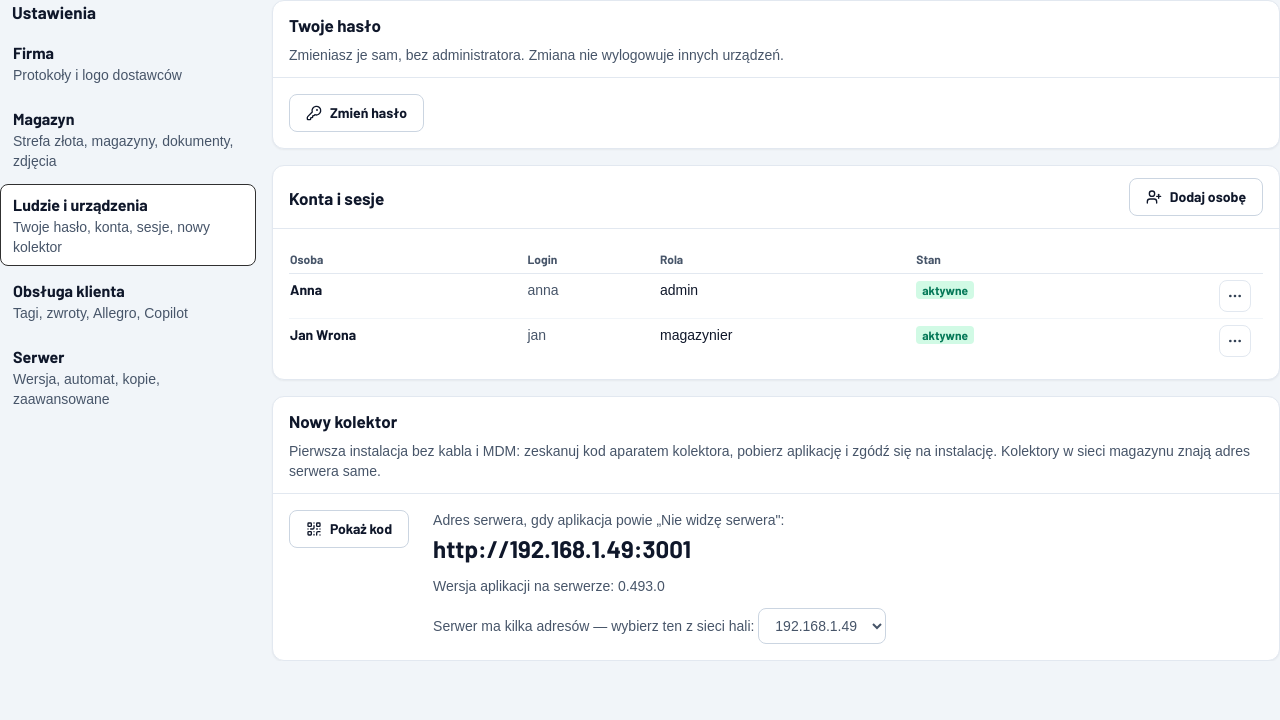
Test: Ustawienia w panelu › admin zakłada konto: pełne dane w jednym żądaniu, hasła nie pokazuje
Expected: the text "Jan Wrona" is shown, [289,318,526,363]
Click the button "Dodaj osobę". click: (1196, 197)
box: [1129,178,1263,216]
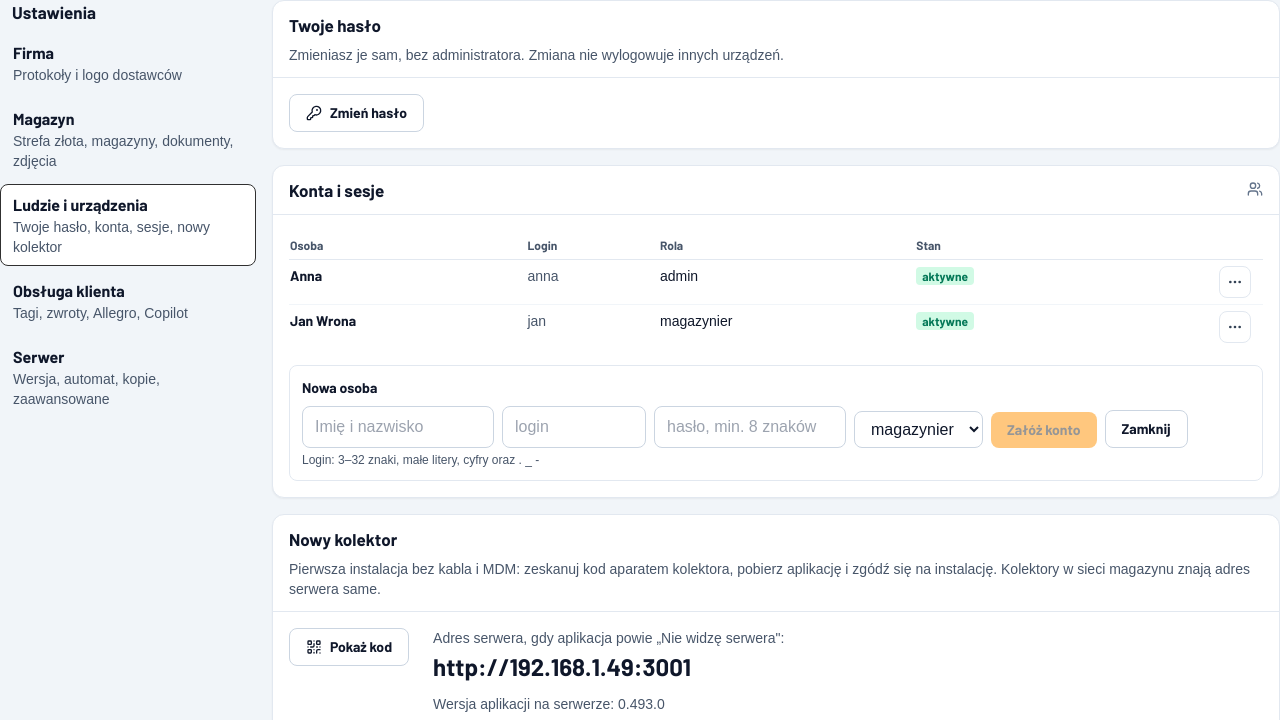
Type "Ewa Kos" into the field labelled "Imię i nazwisko". click: (398, 427)
box: [302,406,494,448]
Type "EKos" into the field labelled "login". click: (574, 427)
box: [502,406,646,448]
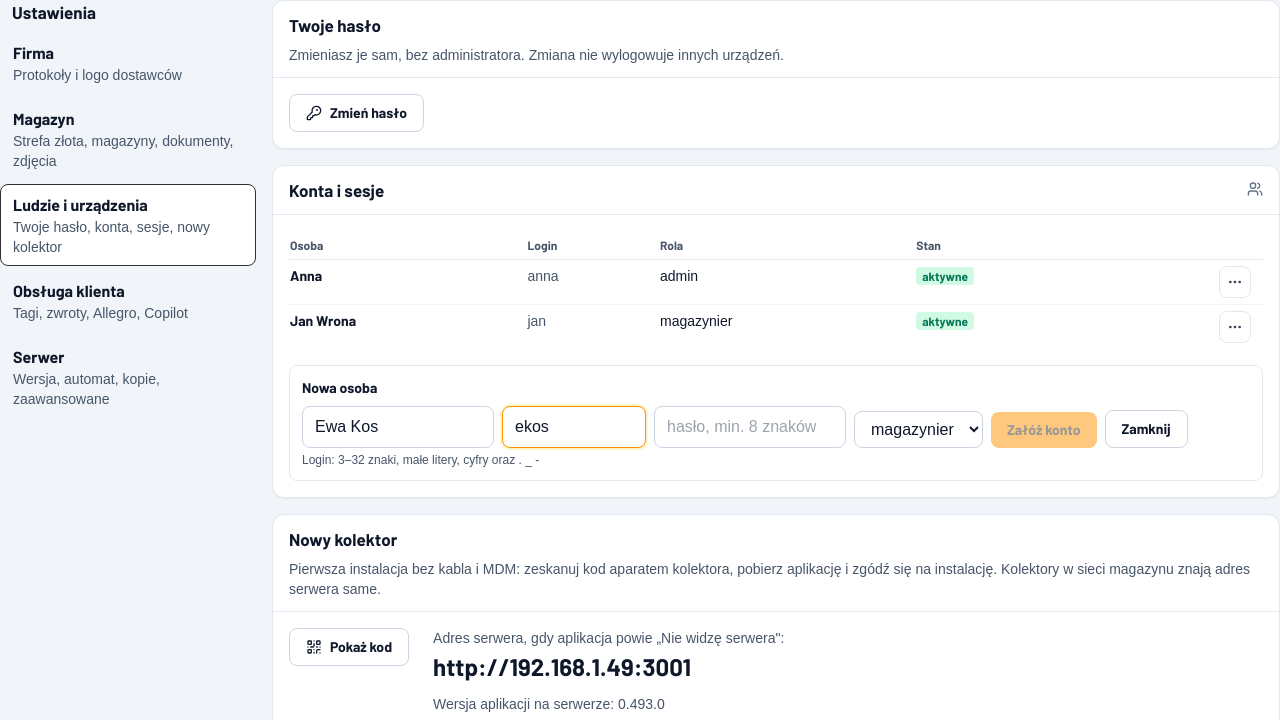
Type "krotko" into the password field labelled "hasło". click: (750, 427)
box: [654,406,846,448]
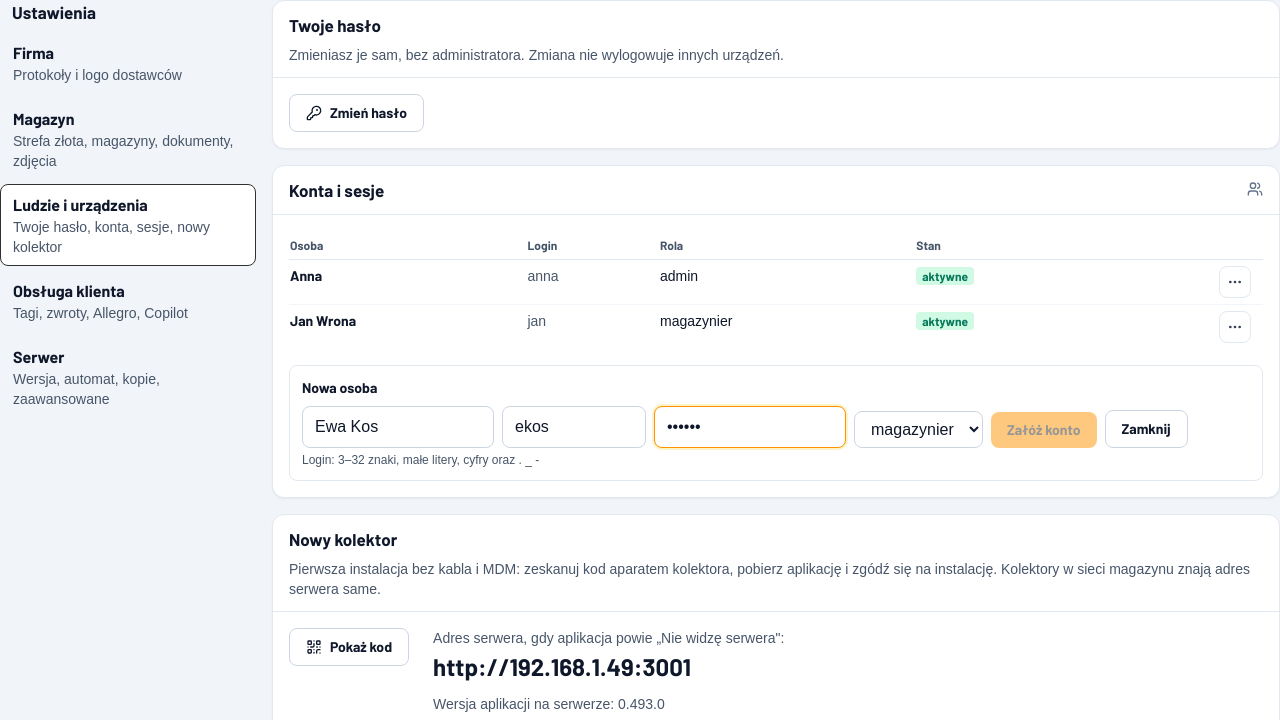
Now the button "Załóż konto" is disabled, box [991,412,1096,448]
Type "12" into the password field named "hasło". click: (750, 427)
box: [654,406,846,448]
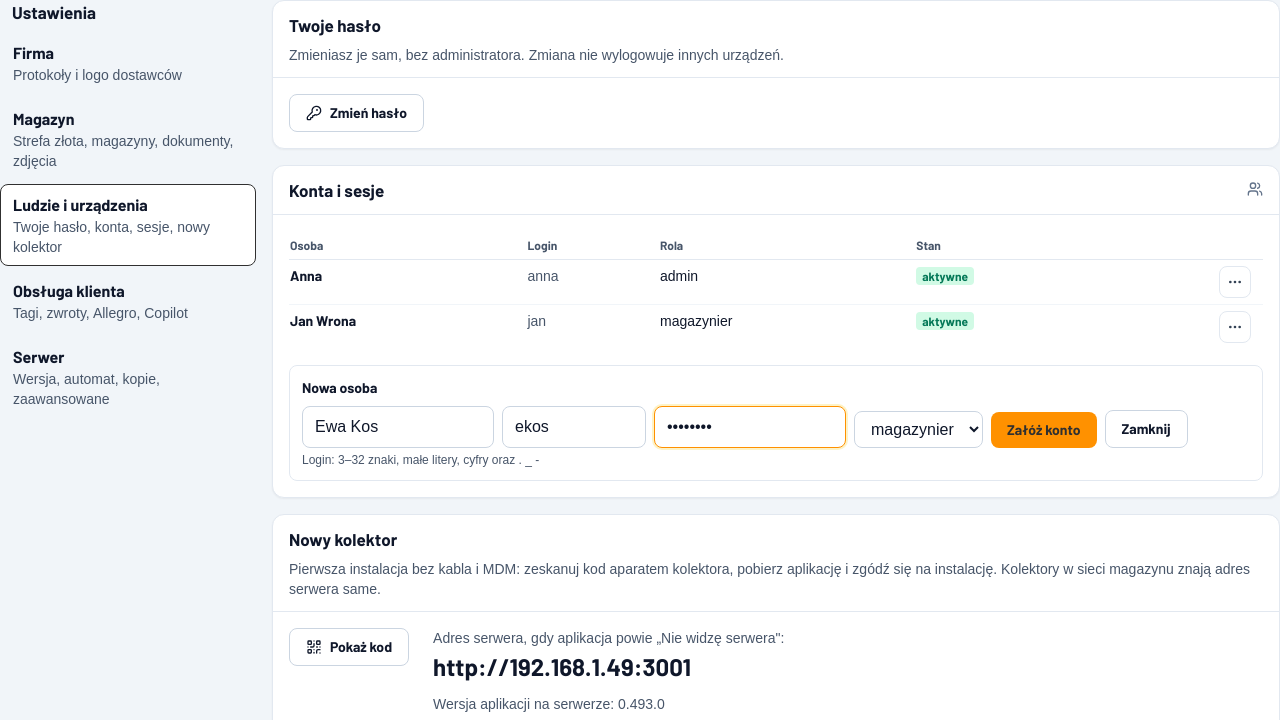
Select "biuro" in the dropdown named "Rola". click: (918, 430)
box: [854,411,983,448]
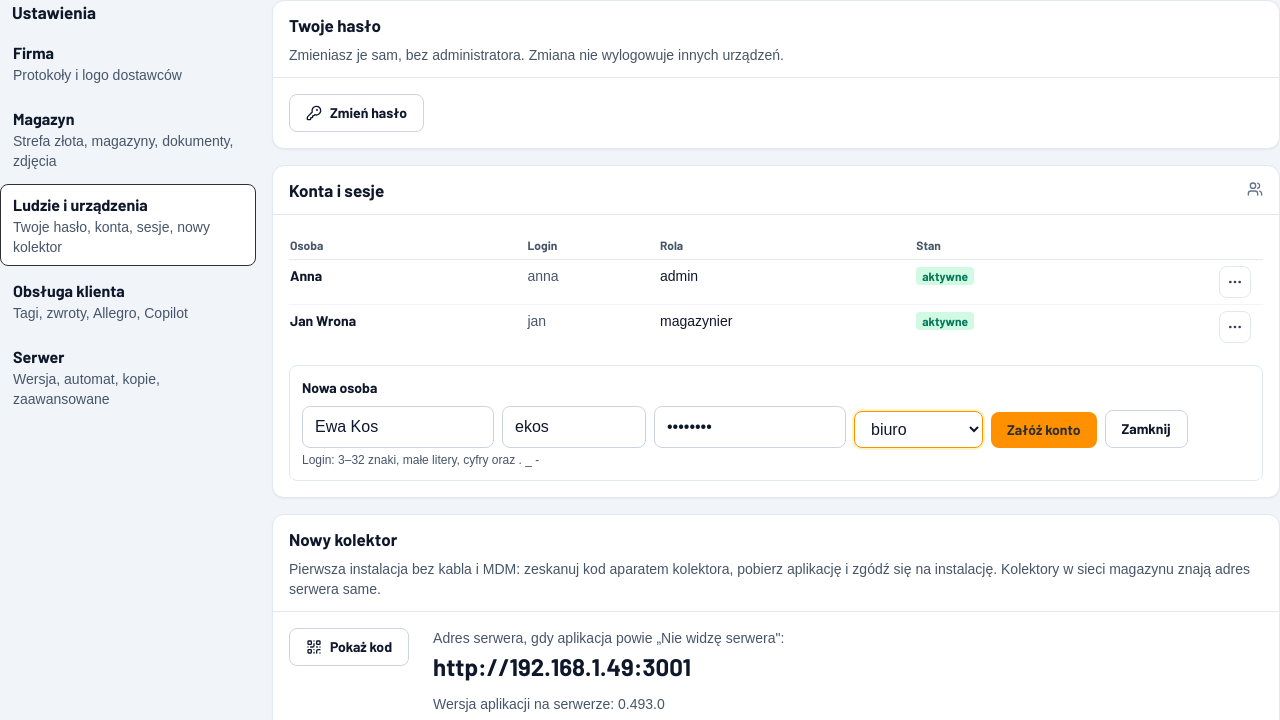
Click the button "Załóż konto". click: (1044, 430)
box: [991,412,1096,448]
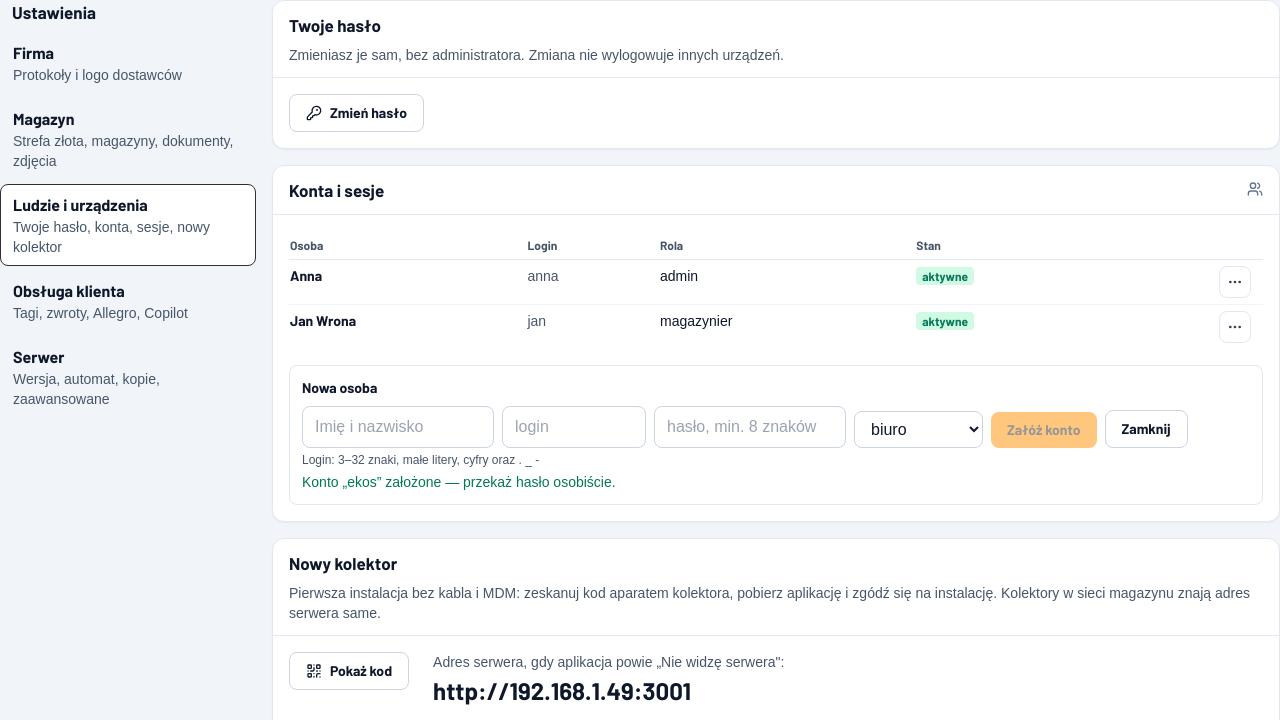
Now the text "Konto „ekos” założone — przekaż hasło osobiście." is shown, box [302,474,616,490]
